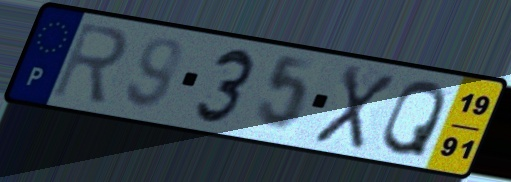3: (191, 47, 258, 126)
5: (253, 52, 319, 139)
9: (122, 36, 186, 112)
Q: (378, 78, 450, 160)
R: (48, 19, 132, 107)
X: (309, 62, 400, 153)
